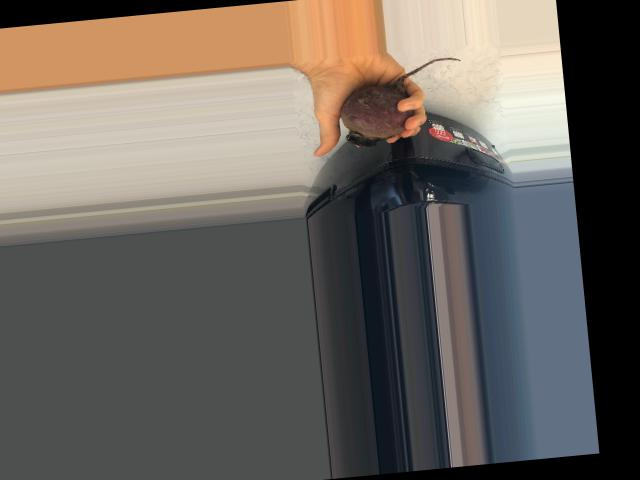beet: (337, 55, 468, 148)
